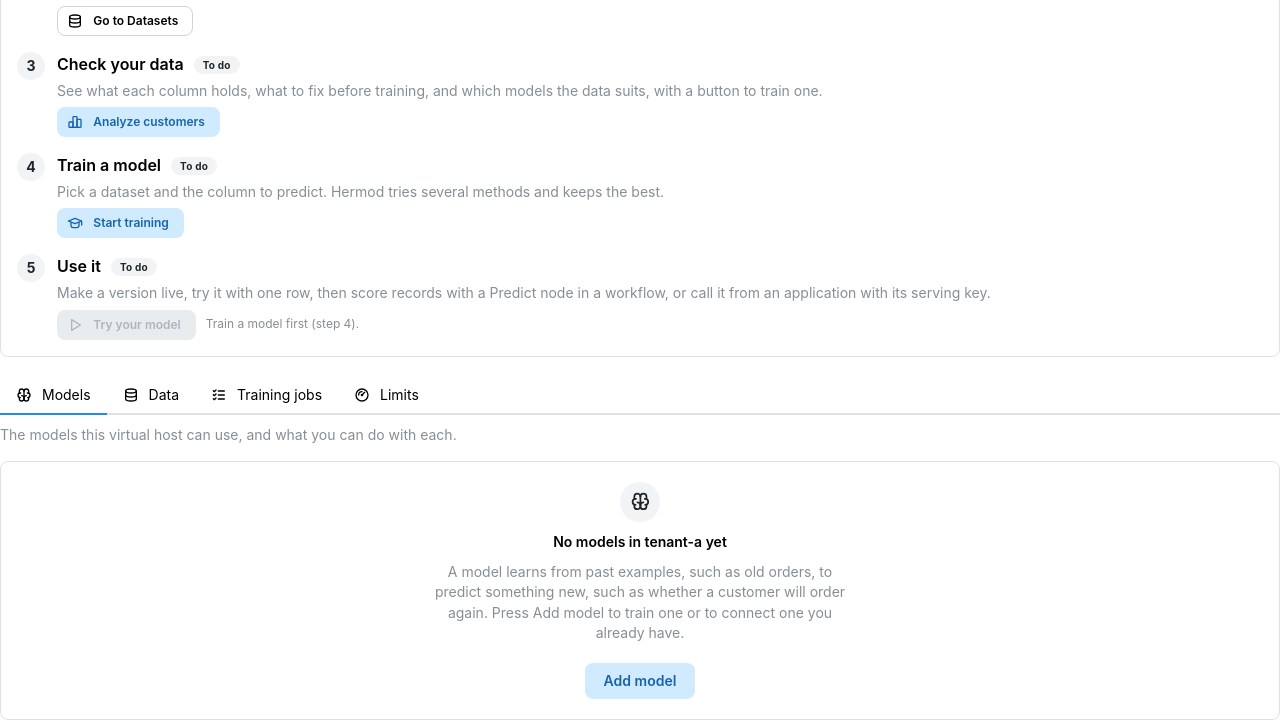
Test: Jobs list on the Models page › shows no Stop button to a Viewer
(page scrolled)
What coordinates should you click on to do the following:
click the tab "Training jobs"
I would click on:
 (266, 396)
Its box is [195,376,338,414].
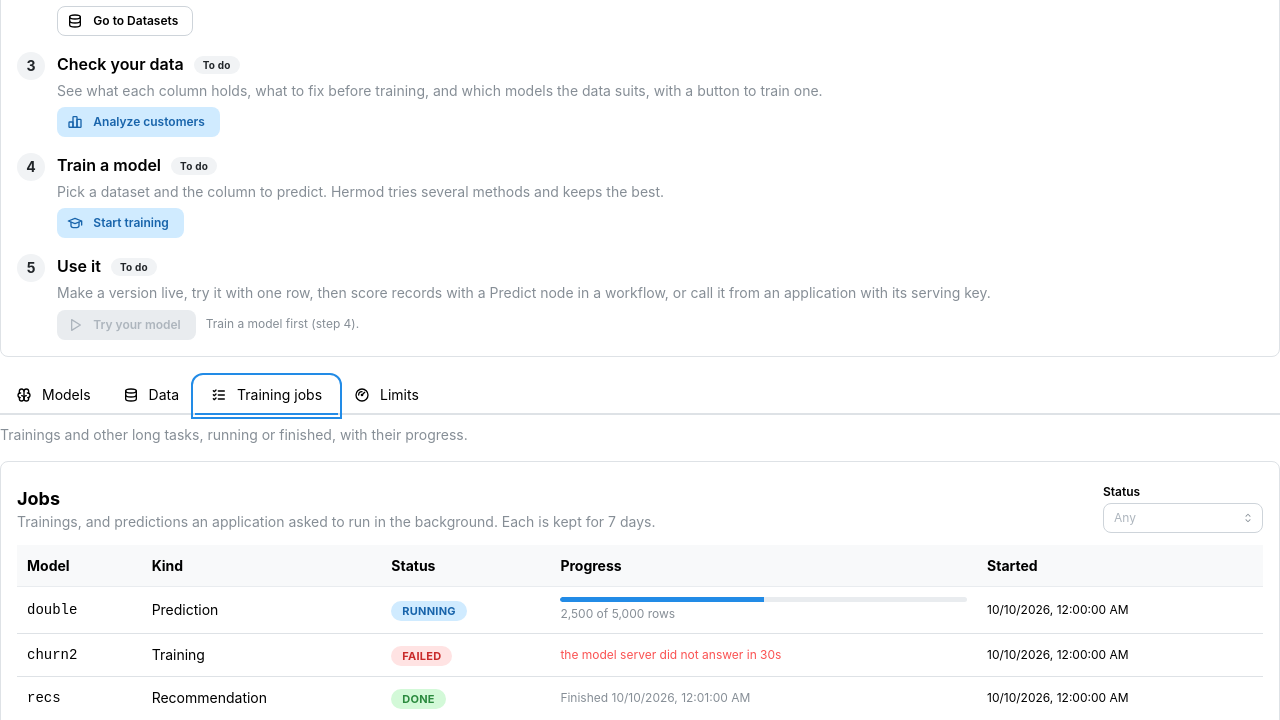
Expected: the table named "jobs" is shown, [17,545,1263,719]
